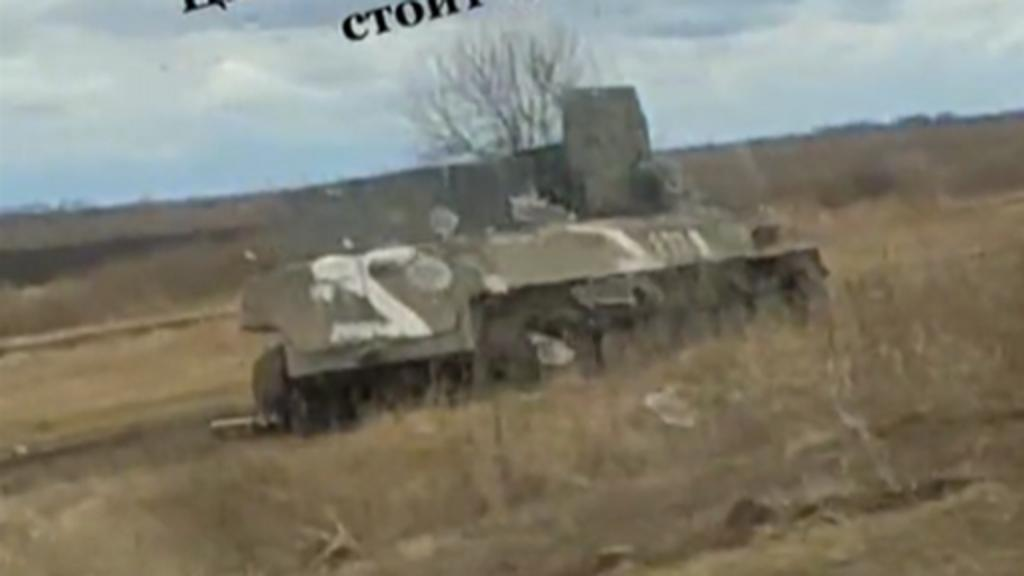APC-IFV: (210, 80, 850, 430)
